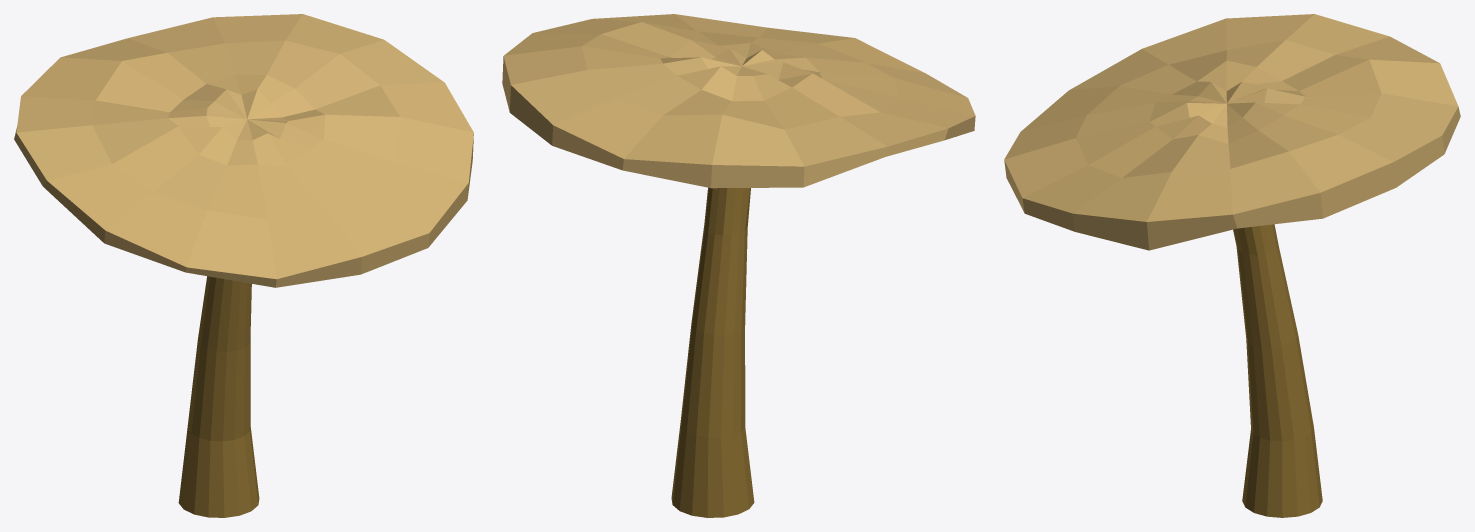
File: Champignon_Désert.fbx
The picture shows the model from 3 angles, left to right: view 1: azimuth 30°, elevation 25°; view 2: azimuth 150°, elevation 25°; view 3: azimuth 270°, elevation 25°; orthographic projection. The views are drawn at different scales.
Visible parts, largest first — view 1: Cylinder; view 2: Cylinder; view 3: Cylinder.
Boxes of the visible parts, left/top/right/bottom form: Cylinder: left=14, top=14, right=473, bottom=517; Cylinder: left=502, top=14, right=975, bottom=517; Cylinder: left=1004, top=14, right=1460, bottom=517.
Size of the model in its own units: 222 by 223 by 222.
